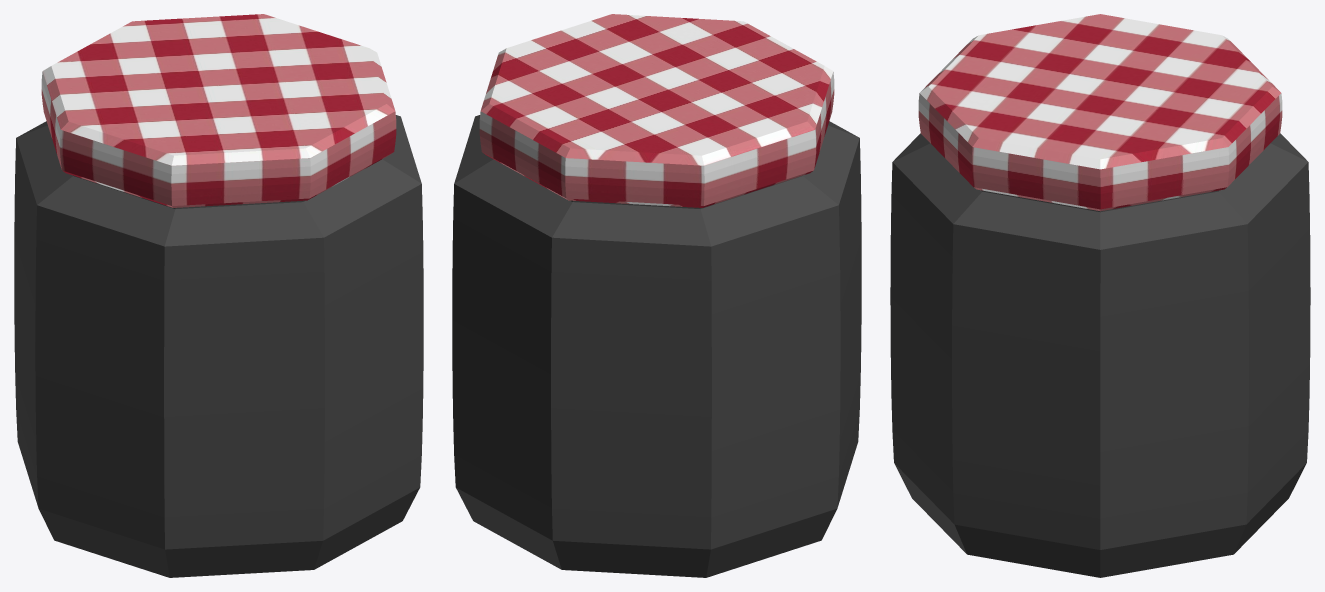
File: JamJar.fbx
The picture shows the model from 3 angles, left to right: view 1: azimuth 30°, elevation 25°; view 2: azimuth 150°, elevation 25°; view 3: azimuth 270°, elevation 25°; orthographic projection.
Visible parts, largest first — view 1: Jar, Cap; view 2: Jar, Cap; view 3: Jar, Cap.
Part boxes in pixels (x1,y1,x2,y2): Jar: [14, 115, 423, 577]; Cap: [41, 14, 396, 207]; Jar: [452, 115, 861, 577]; Cap: [479, 14, 834, 207]; Jar: [890, 133, 1310, 577]; Cap: [918, 14, 1282, 211].
Size of the model in its own units: 206 by 223 by 206.
